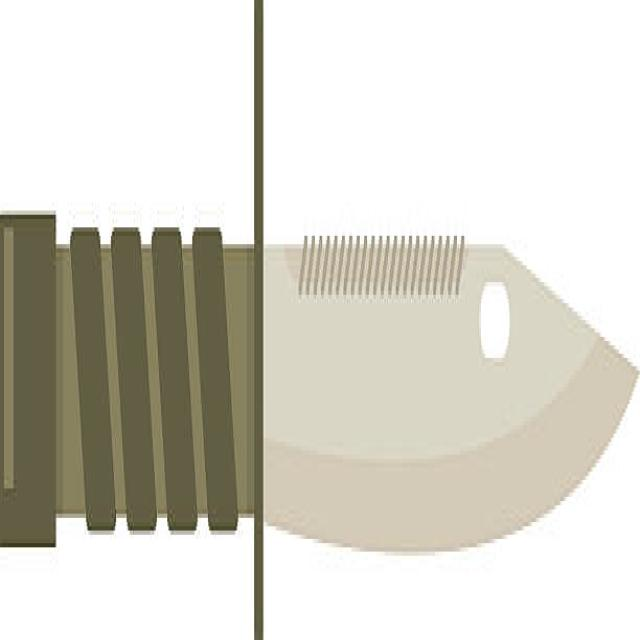knife: (1, 154, 640, 568)
